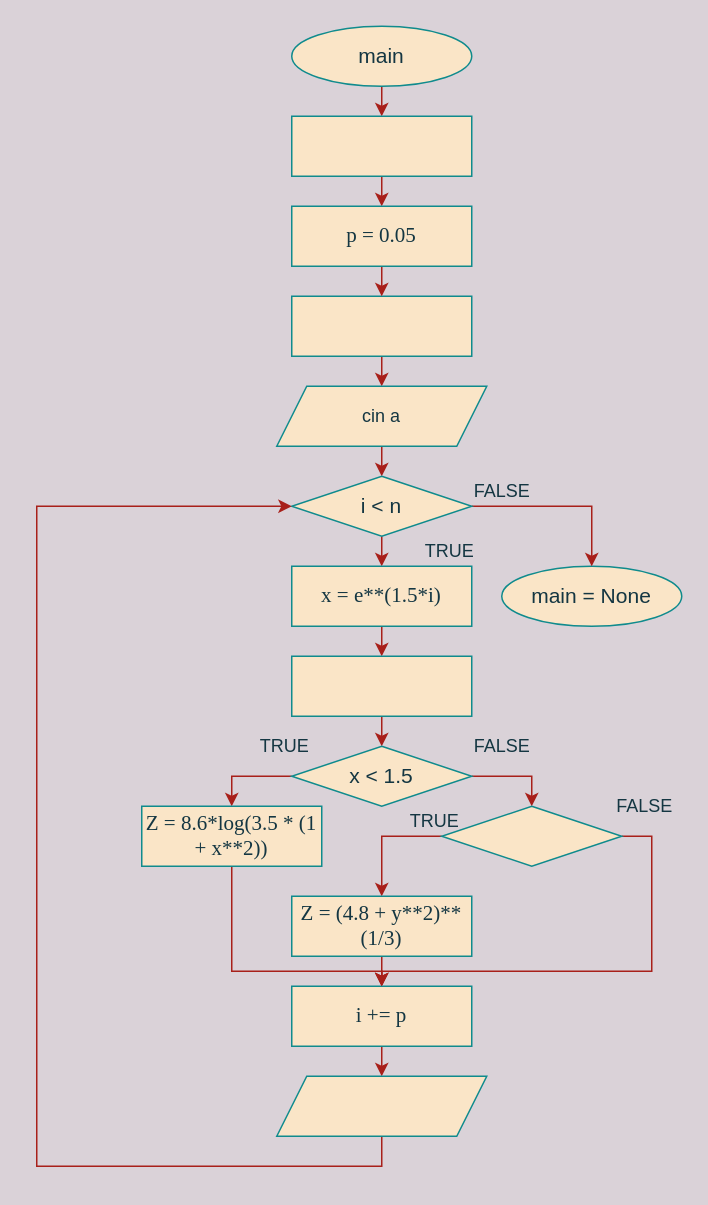
The diagram is 708 pixels wide and 1205 high, and some of its shapes have lost their labels. Here are the shapes that lost their labels. From the top down, the box of each, then its label:
(290, 115, 472, 176): i = 0.35
(290, 295, 472, 356): n = 0.75
(290, 655, 472, 716): y = a*x**2 - 3.6
(440, 805, 622, 866): x >= 1.5
(275, 1075, 487, 1136): cout Z
